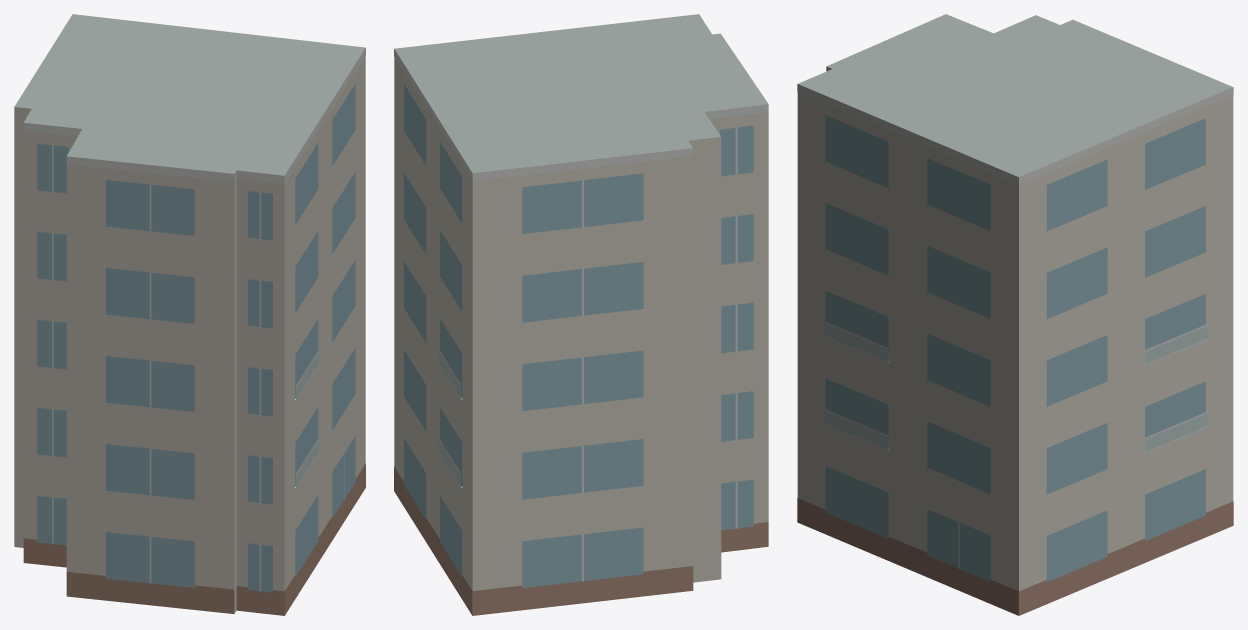
Rendered from survey-upis-33021877.glb.
3 views of the same model, side by side, from view 1: azimuth 30°, elevation 25°; view 2: azimuth 150°, elevation 25°; view 3: azimuth 270°, elevation 25° (orthographic).
Visible parts, largest first — view 1: survey-upis-33021877.tmp; view 2: survey-upis-33021877.tmp; view 3: survey-upis-33021877.tmp.
Boxes of the visible parts, x1,y1,x2,y2 form: survey-upis-33021877.tmp: (14, 14, 365, 615); survey-upis-33021877.tmp: (394, 14, 768, 615); survey-upis-33021877.tmp: (797, 14, 1233, 615).
Bounding box in the file's own units: 10.78 × 13.5 × 12.16.
